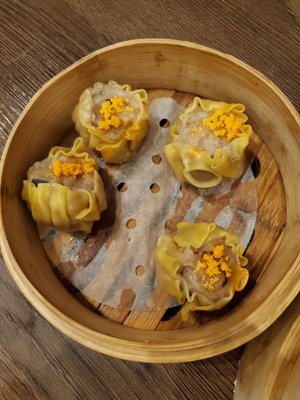pasta: (71, 80, 150, 166)
